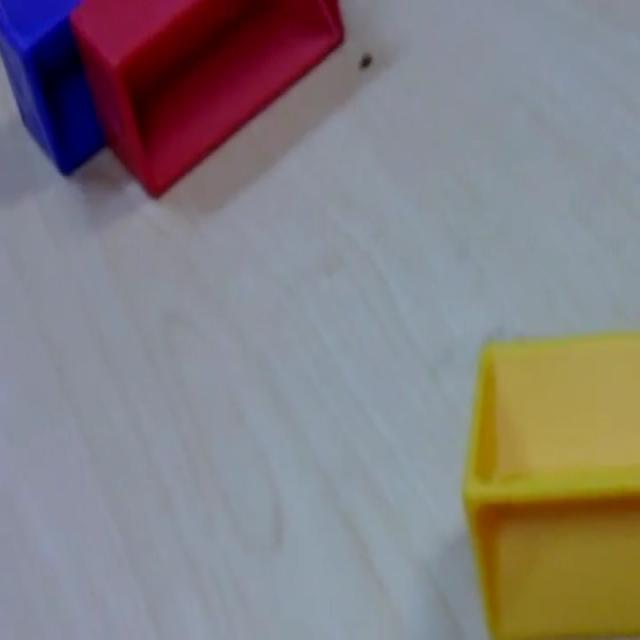red_block: (68, 0, 345, 200)
yellow_block: (462, 328, 638, 636)
